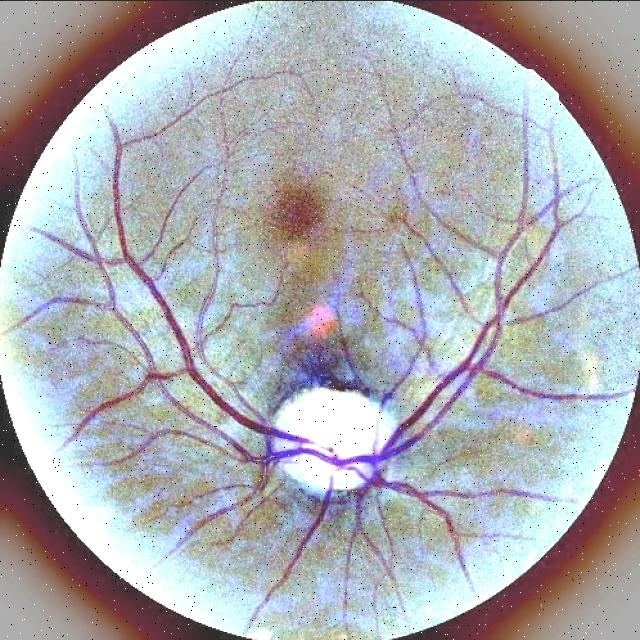Macula: (262, 173, 346, 261)
Nerves: (98, 195, 551, 488)
Optic Disk: (261, 361, 407, 516)
